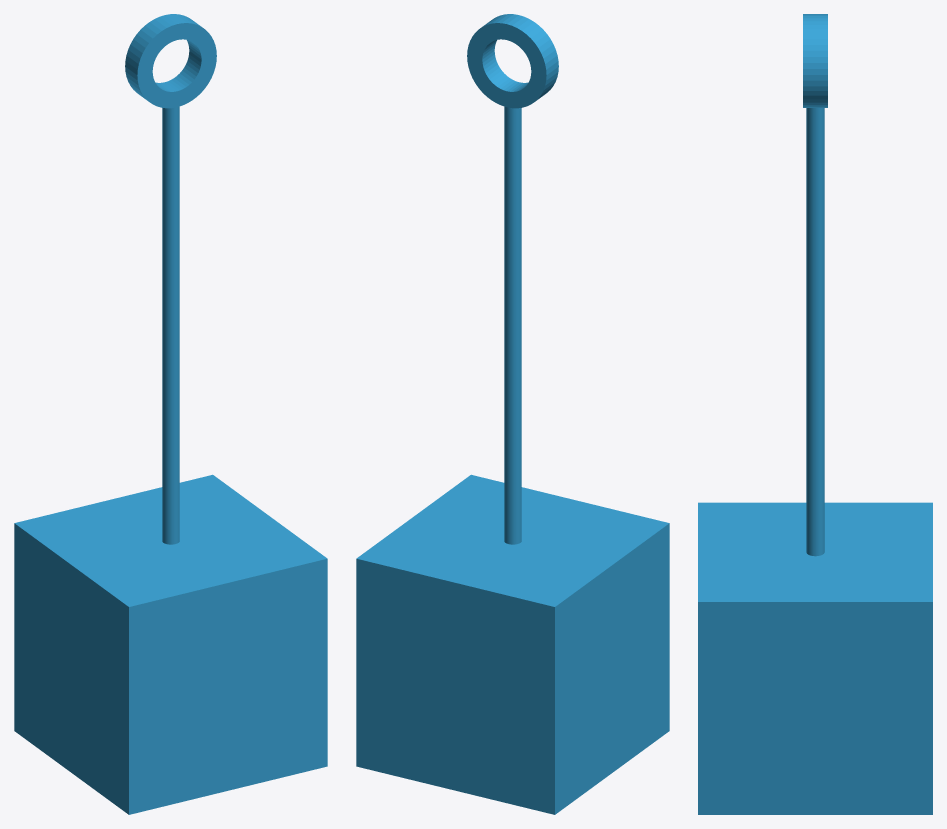
File: pesa-liviana.glb
3 views of the same model, side by side, from view 1: azimuth 30°, elevation 25°; view 2: azimuth 150°, elevation 25°; view 3: azimuth 270°, elevation 25° (orthographic). The views are drawn at different scales.
Visible parts, largest first — view 1: geometry_0; view 2: geometry_0; view 3: geometry_0.
Boxes of the visible parts, x1,y1,x2,y2 form: geometry_0: (14,14,327,814); geometry_0: (356,14,669,814); geometry_0: (698,14,932,814).
Bounding box in the file's own units: 0.013 × 0.0456 × 0.013.
